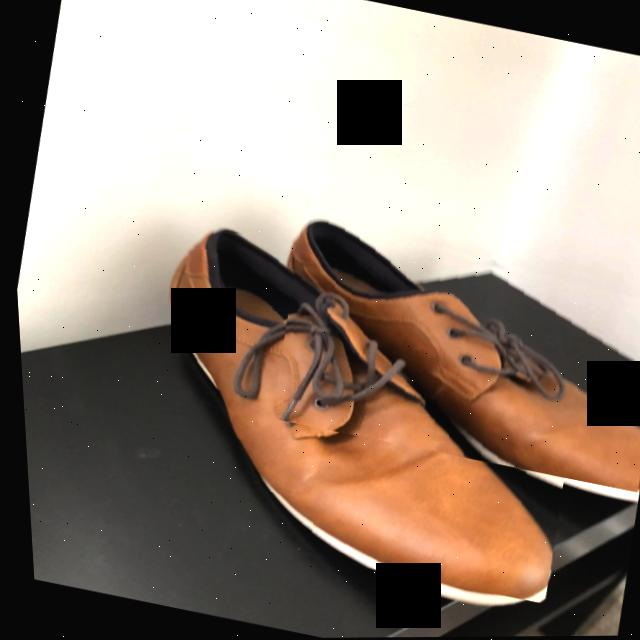shoe: (168, 231, 543, 600), (296, 218, 636, 492)
